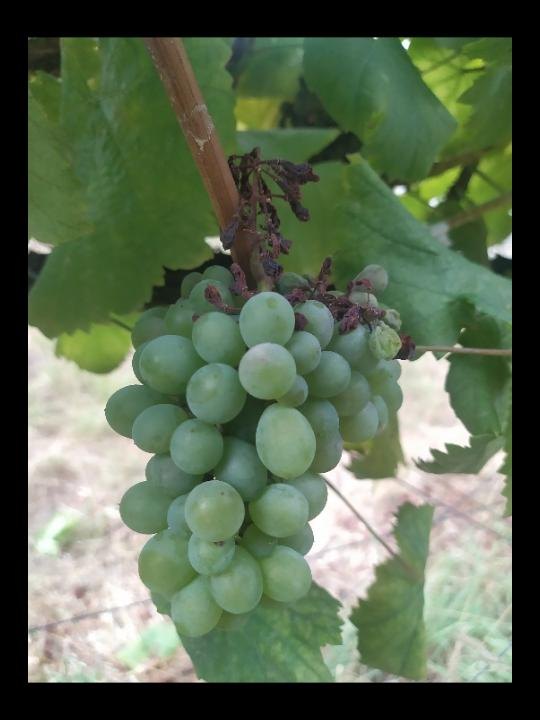grape: (102, 143, 418, 640)
